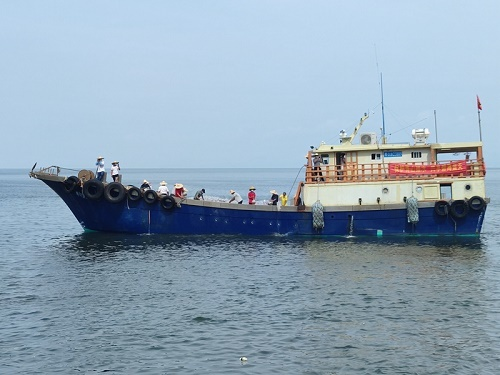otherboat: (28, 99, 490, 239)
